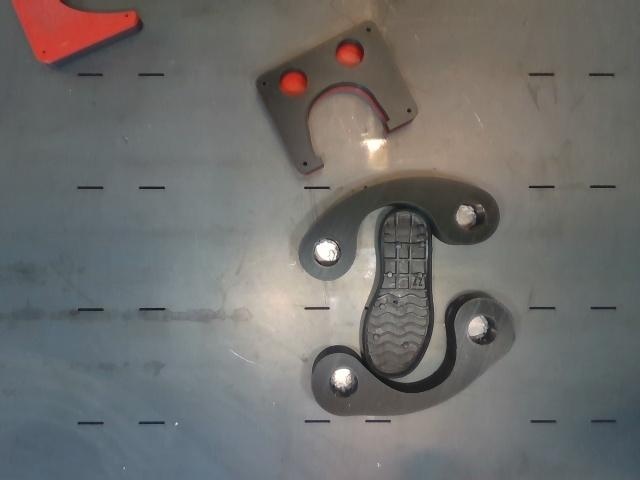shoes: (363, 208, 434, 378)
